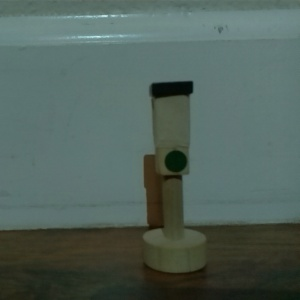traffic light green: (140, 78, 210, 274)
